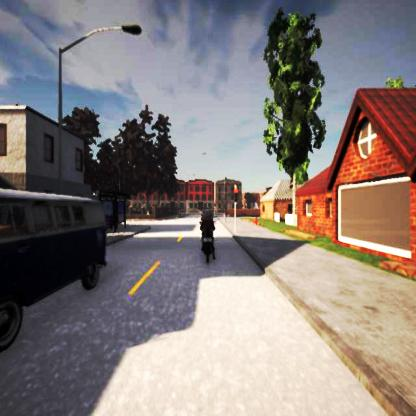motobike: (200, 213, 216, 264)
vehicle: (0, 183, 106, 369)
